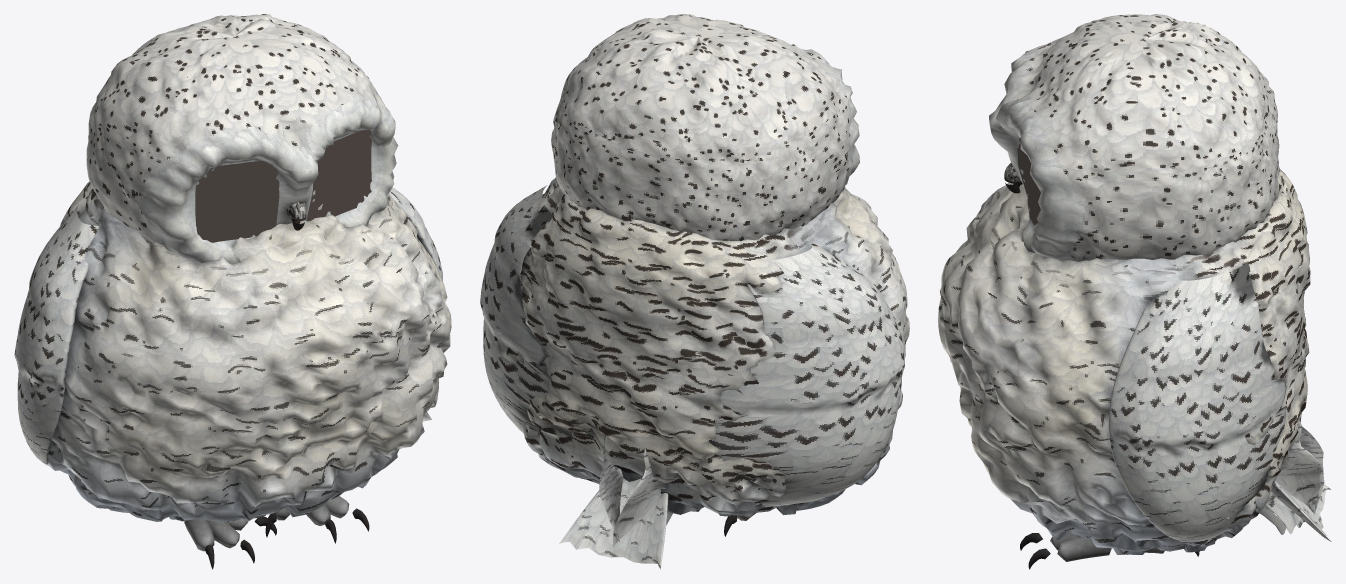
The model's file is snowy.glb.
3 views of the same model, side by side, from view 1: azimuth 30°, elevation 25°; view 2: azimuth 150°, elevation 25°; view 3: azimuth 270°, elevation 25° (orthographic). The views are drawn at different scales.
Visible parts, largest first — view 1: body_mesh, head_mesh, wing_l_mesh, eye_l, eye_r, wing_r_mesh, leg_lt0_mesh, leg_lt1_mesh; view 2: body_mesh, head_mesh, wing_l_mesh, wing_r_mesh, tail_mesh; view 3: body_mesh, head_mesh, wing_r_mesh, tail_mesh, leg_rt0_mesh, eye_r, wing_l_mesh.
Boxes of the visible parts, x1,y1,x2,y2 form: body_mesh: (47,181,451,521); head_mesh: (86,14,398,264); wing_l_mesh: (14,204,99,465); eye_l: (195,161,279,242); eye_r: (306,130,371,221); wing_r_mesh: (389,187,442,281); leg_lt0_mesh: (184,519,214,551); leg_lt1_mesh: (206,520,239,548); body_mesh: (494,177,909,516); head_mesh: (551,14,859,241); wing_l_mesh: (613,241,905,546); wing_r_mesh: (480,185,623,542); tail_mesh: (559,478,668,569); body_mesh: (938,168,1310,554); head_mesh: (989,14,1279,261); wing_r_mesh: (1108,263,1321,541); tail_mesh: (1271,481,1331,541); leg_rt0_mesh: (1057,536,1111,561); eye_r: (1017,137,1040,225); wing_l_mesh: (1299,423,1324,522).
Bounding box in the file's own units: 39.05 × 43.36 × 31.44.
2 materials, 1 textured.
